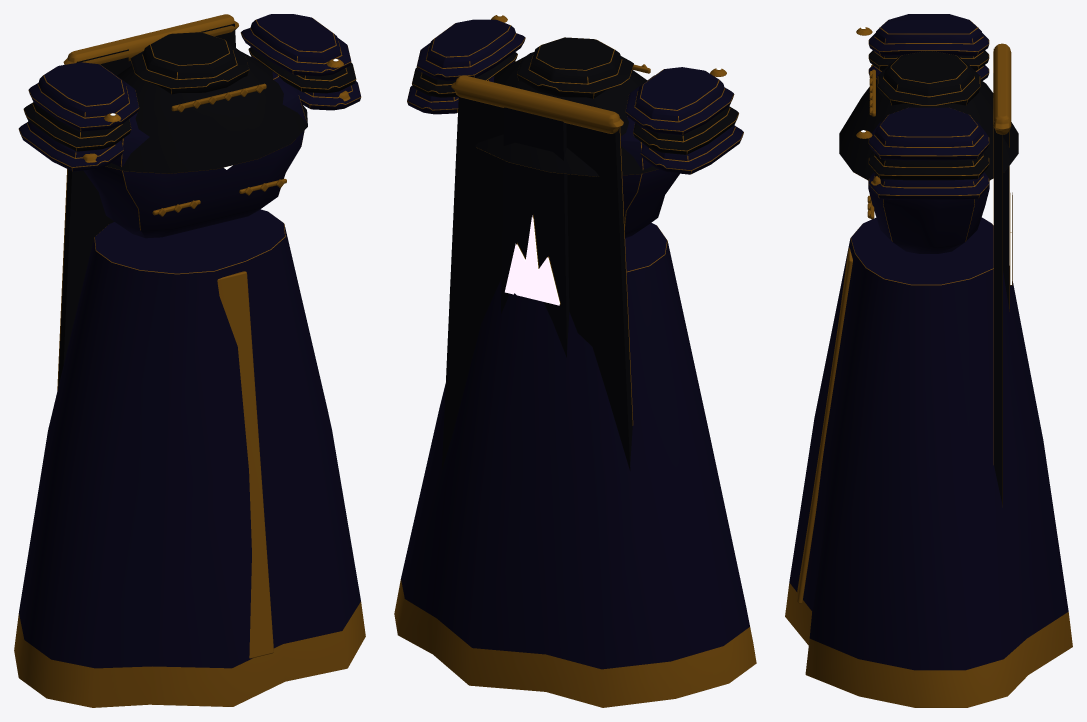
Rendered from Veu_Armadura.fbx.
3 renders of one model, left to right at view 1: azimuth 30°, elevation 25°; view 2: azimuth 150°, elevation 25°; view 3: azimuth 270°, elevation 25°, orthographic. The views are drawn at different scales.
Parts seen in each view (by area): view 1: Piece; view 2: Piece; view 3: Piece.
Boxes of the visible parts, x1=… form: Piece: x1=14, y1=14, x2=365, y2=707; Piece: x1=394, y1=14, x2=756, y2=707; Piece: x1=785, y1=14, x2=1072, y2=707.
Bounding box in the file's own units: 0.8345 × 1.45 × 0.6682.
